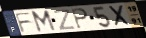5: (91, 5, 113, 29)
F: (14, 11, 33, 34)
M: (30, 9, 58, 34)
P: (70, 8, 90, 30)
X: (107, 5, 133, 28)
Z: (53, 9, 76, 31)
